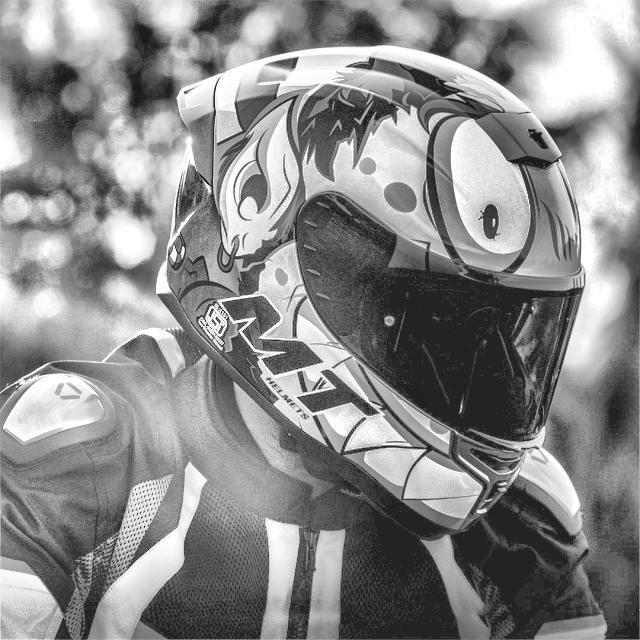Helmet: (159, 45, 575, 532)
